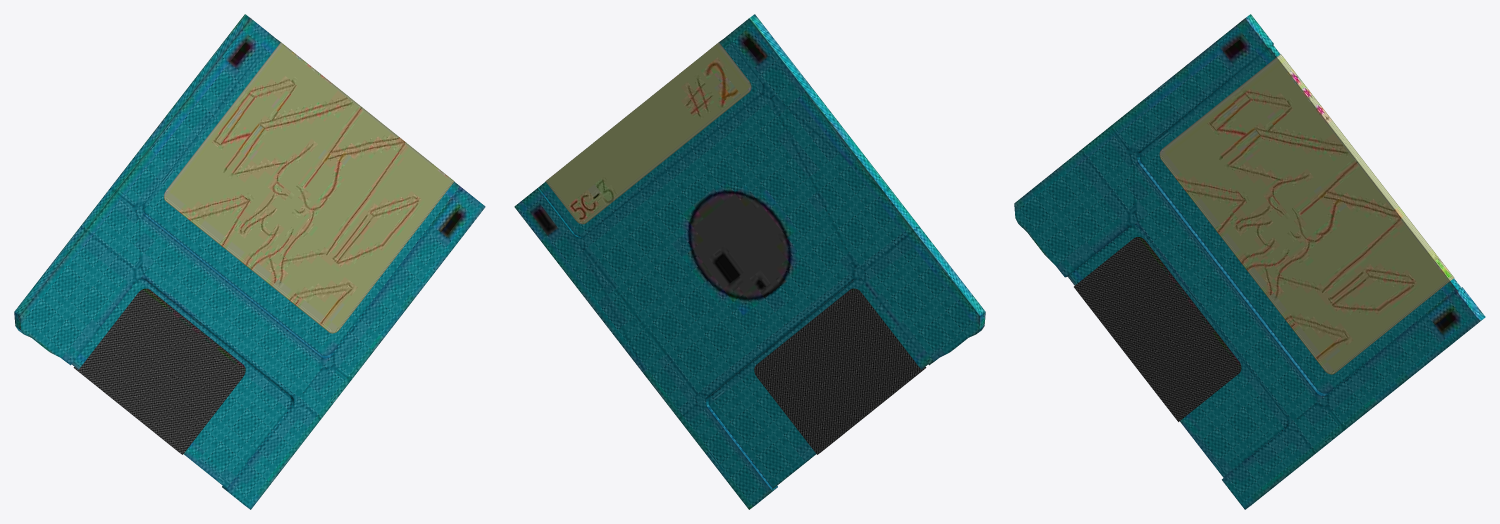
The model's file is floppy3.5.glb.
The picture shows the model from 3 angles, left to right: view 1: azimuth 30°, elevation 25°; view 2: azimuth 150°, elevation 25°; view 3: azimuth 330°, elevation 25°; orthographic projection.
Parts seen in each view (by area): view 1: Floppy 3.5 - dup; view 2: Floppy 3.5 - dup; view 3: Floppy 3.5 - dup.
Part boxes in pixels (x1=…): Floppy 3.5 - dup: x1=14, y1=14, x2=485, y2=509; Floppy 3.5 - dup: x1=514, y1=14, x2=985, y2=509; Floppy 3.5 - dup: x1=1014, y1=14, x2=1485, y2=509.
Size of the model in its own units: 2.8 by 2.83 by 0.0604.
1 material, 1 textured.
